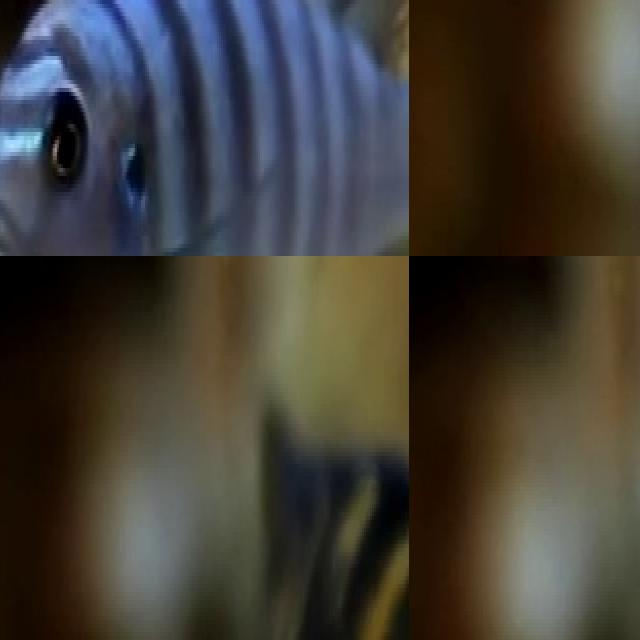fish: (0, 0, 409, 256), (224, 364, 409, 640)
